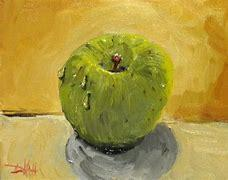apple: (49, 31, 171, 156)
